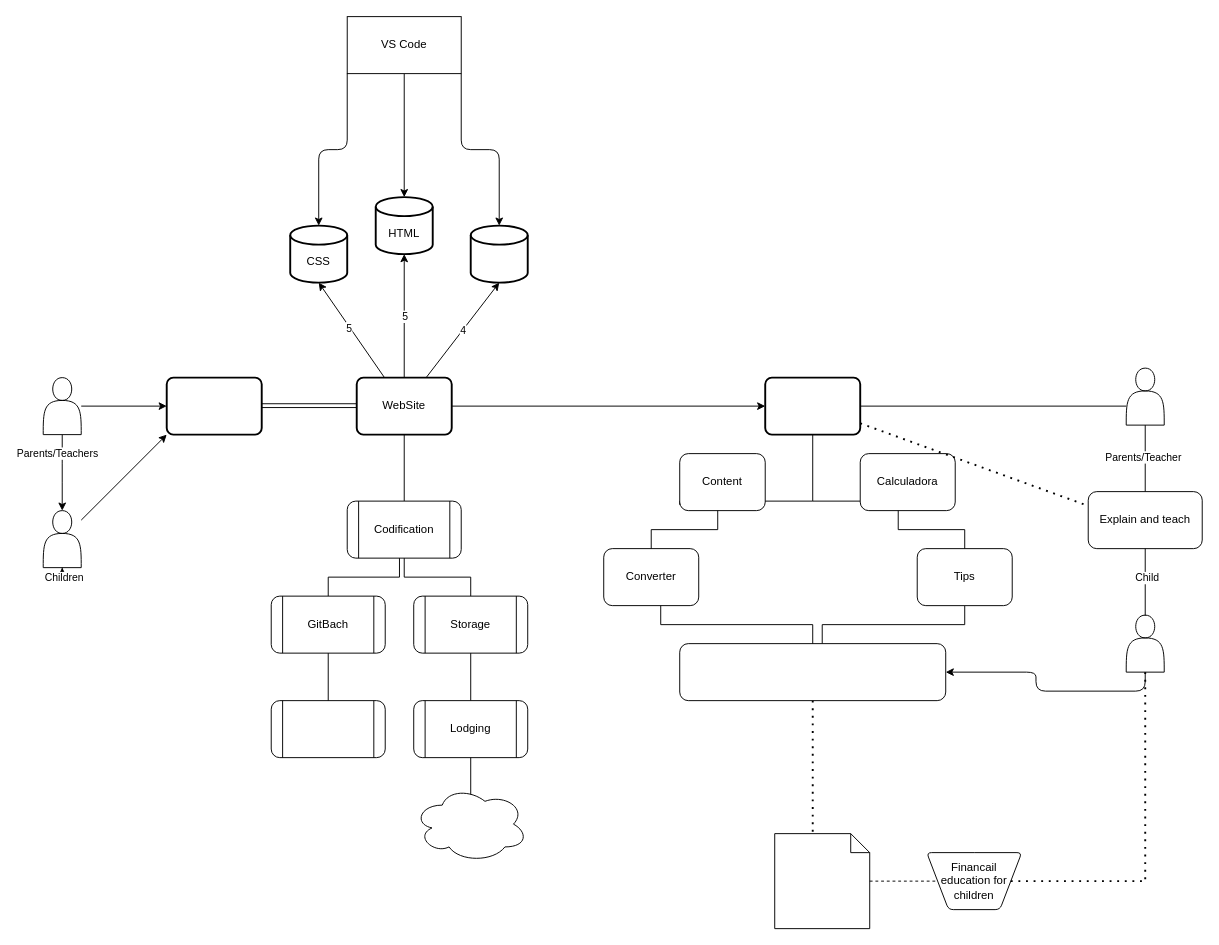
This 1219x945 diagram has some shape labels left out. Each missing label, with the centre of its shape:
"Access" belongs at point (213, 405).
"GitHub" belongs at point (327, 729).
"Google Cloud" belongs at point (470, 823).
"Information" belongs at point (812, 405).
"JS" belongs at point (498, 253).
"Quiz" belongs at point (812, 672).
"WebSite developed to improve early childhood education" belongs at point (822, 881).
